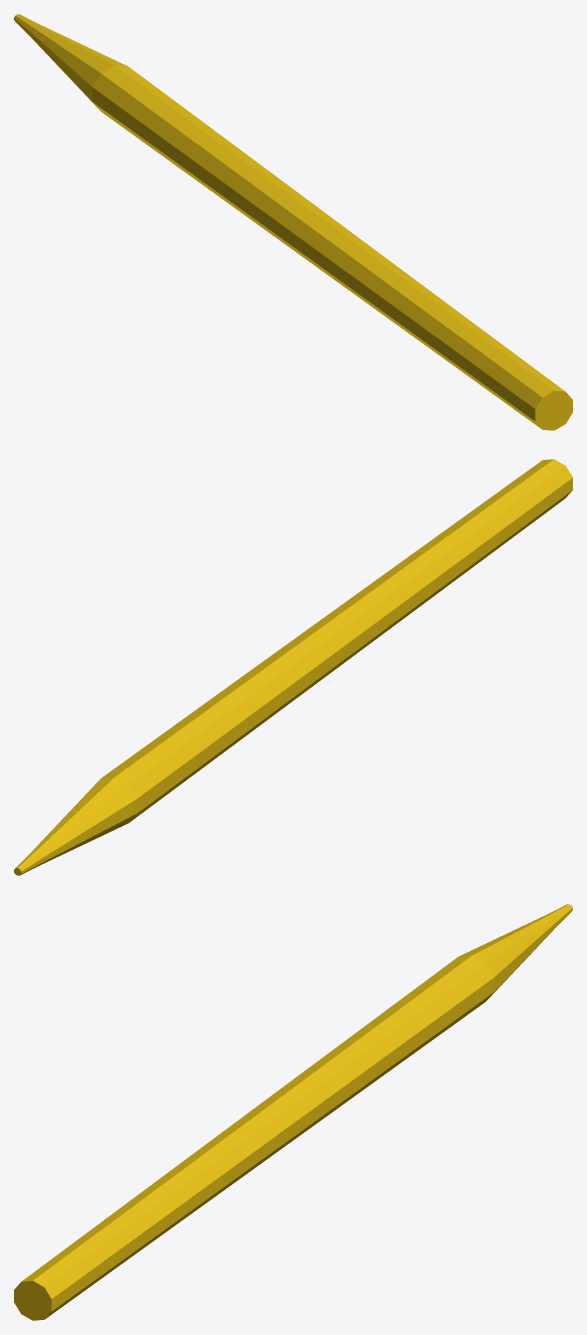
File: pencil.fbx
3 views of the same model, one above another, from view 1: azimuth 30°, elevation 25°; view 2: azimuth 150°, elevation 25°; view 3: azimuth 330°, elevation 25° (orthographic).
Parts seen in each view (by area): view 1: diary__pencil; view 2: diary__pencil; view 3: diary__pencil.
Part boxes in pixels (x1,y1,x2,y2): diary__pencil: [14, 14, 572, 430]; diary__pencil: [14, 459, 572, 875]; diary__pencil: [14, 904, 572, 1320].
Bounding box in the file's own units: 1.05 × 1.06 × 21.8.
